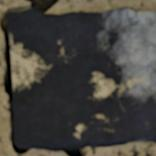brick: (8, 7, 155, 150)
crack: (0, 0, 58, 154), (62, 147, 85, 155)
